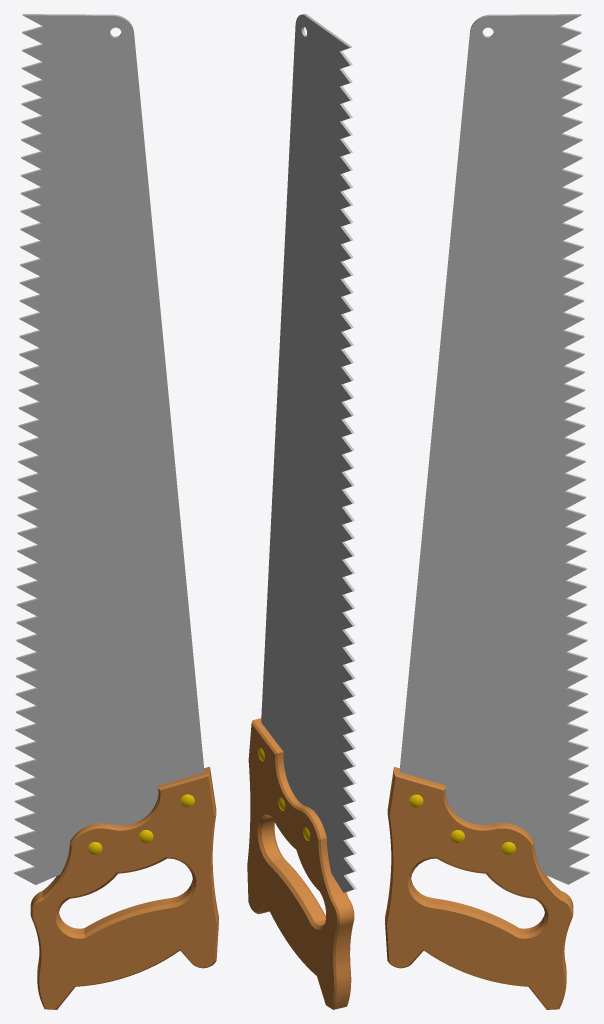
Rendered from Saw.fbx.
The picture shows the model from 3 angles, left to right: view 1: azimuth 90°, elevation 25°; view 2: azimuth 210°, elevation 25°; view 3: azimuth 270°, elevation 25°; orthographic projection. The views are drawn at different scales.
Visible parts, largest first — view 1: Model; view 2: Model; view 3: Model.
Boxes of the visible parts, x1=… form: Model: x1=14, y1=14, x2=218, y2=1009; Model: x1=247, y1=14, x2=356, y2=1009; Model: x1=385, y1=14, x2=589, y2=1009.
Size of the model in its own units: 0.8159 by 37.17 by 6.96.
